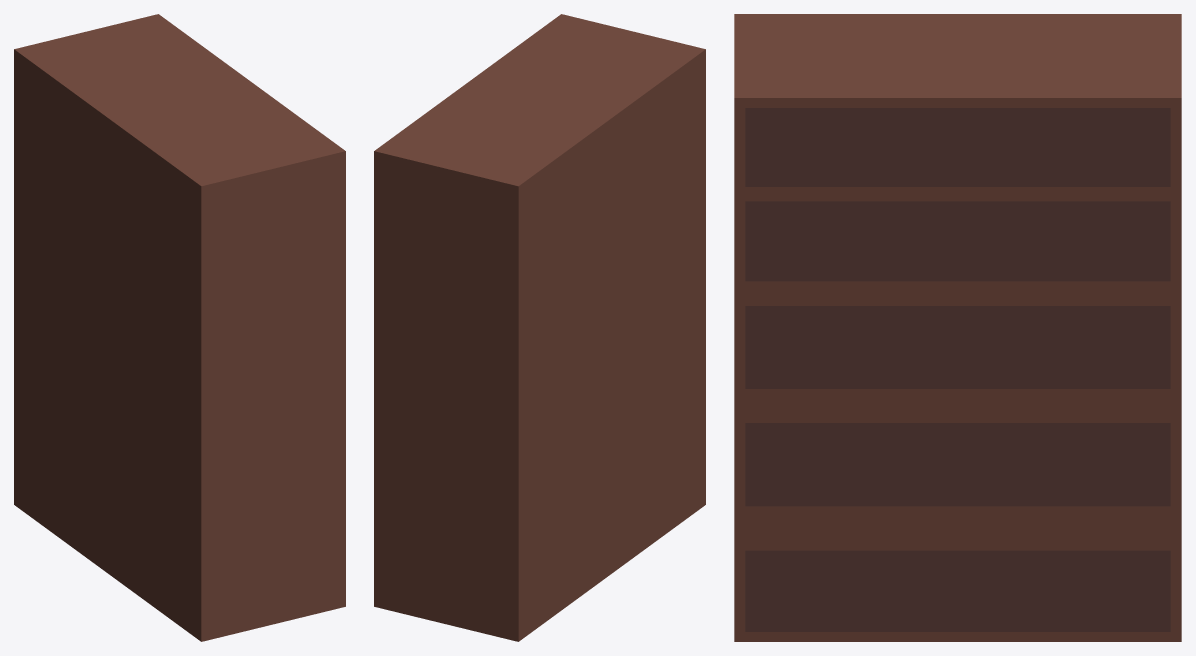
File: Bookcase.fbx
The picture shows the model from 3 angles, left to right: view 1: azimuth 30°, elevation 25°; view 2: azimuth 150°, elevation 25°; view 3: azimuth 270°, elevation 25°; orthographic projection. The views are drawn at different scales.
Parts seen in each view (by area): view 1: Bookcase; view 2: Bookcase; view 3: Bookcase.
Part boxes in pixels (left/top/right/bottom): Bookcase: left=14, top=14, right=345, bottom=641; Bookcase: left=374, top=14, right=705, bottom=641; Bookcase: left=734, top=14, right=1181, bottom=641.
Size of the model in its own units: 356 by 1074 by 800.
